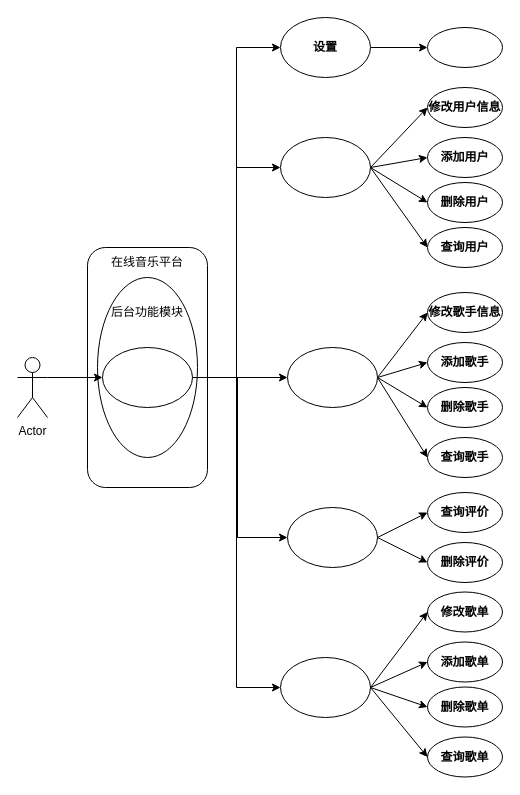
This 520x795 diagram has some shape labels left out. The box of each missing label's shape, as (x1, y1, x2, y2) in pixels:
修改个人密码: (426, 26, 502, 68)
歌单管理: (280, 656, 370, 718)
歌手管理: (286, 346, 378, 408)
用户管理: (280, 136, 370, 198)
登录: (102, 346, 192, 408)
评价管理: (286, 506, 378, 568)
